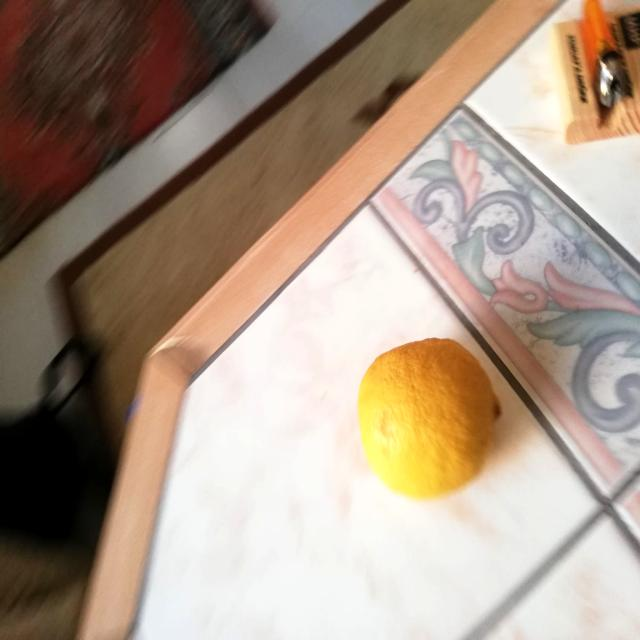lemon: (352, 330, 506, 510)
